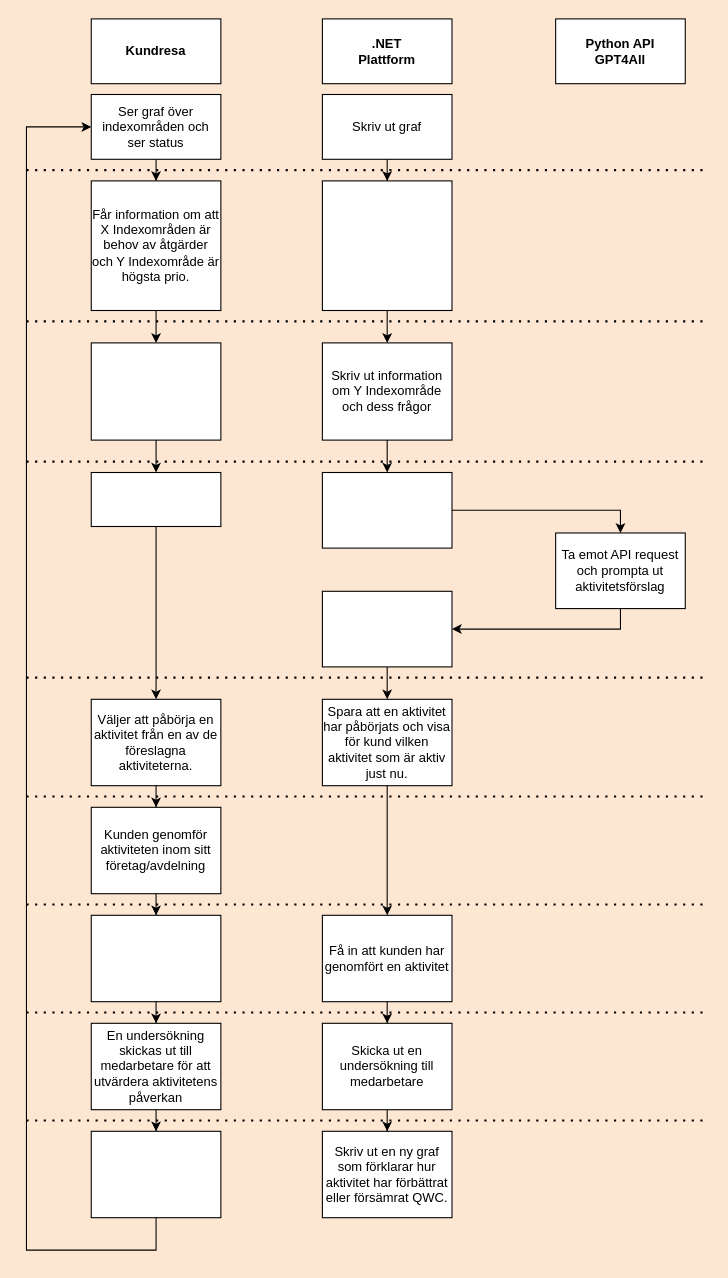
Some shapes in this 728 by 1278 pixel diagram are drawn without their labels. Each missing label, with the centre of its shape:
"Får aktivitetsförslag" goes at (x=155, y=498).
"Kort beskrivning om förbättring från föregående aktivitet printas ut för kunden." goes at (x=155, y=1174).
"Kunden anmäler aktivitet klart." goes at (x=155, y=958).
"Skicka API request till Python API för att få aktivitetsförslag" goes at (x=386, y=509).
"Skriv ut aktivitetsförlag" goes at (x=386, y=628).
"Skriv ut behov av åtgärder text." goes at (x=386, y=245).
"Väljer att få mer information om Y Indexområde" goes at (x=155, y=391).
